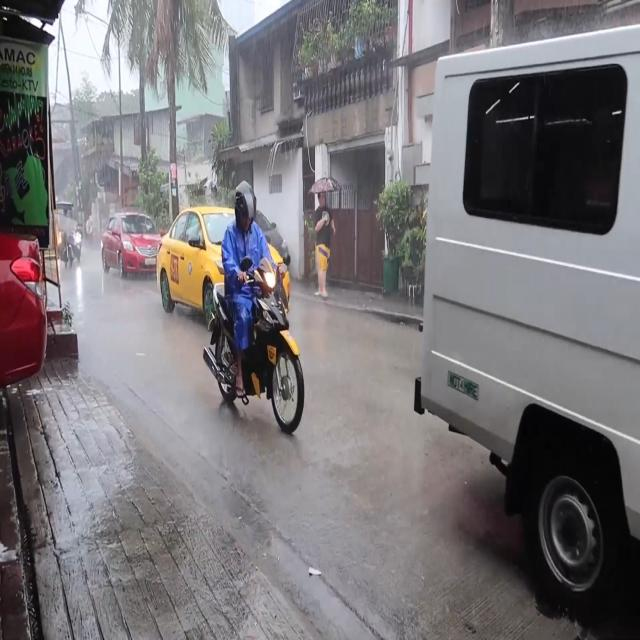half: (232, 178, 258, 237)
